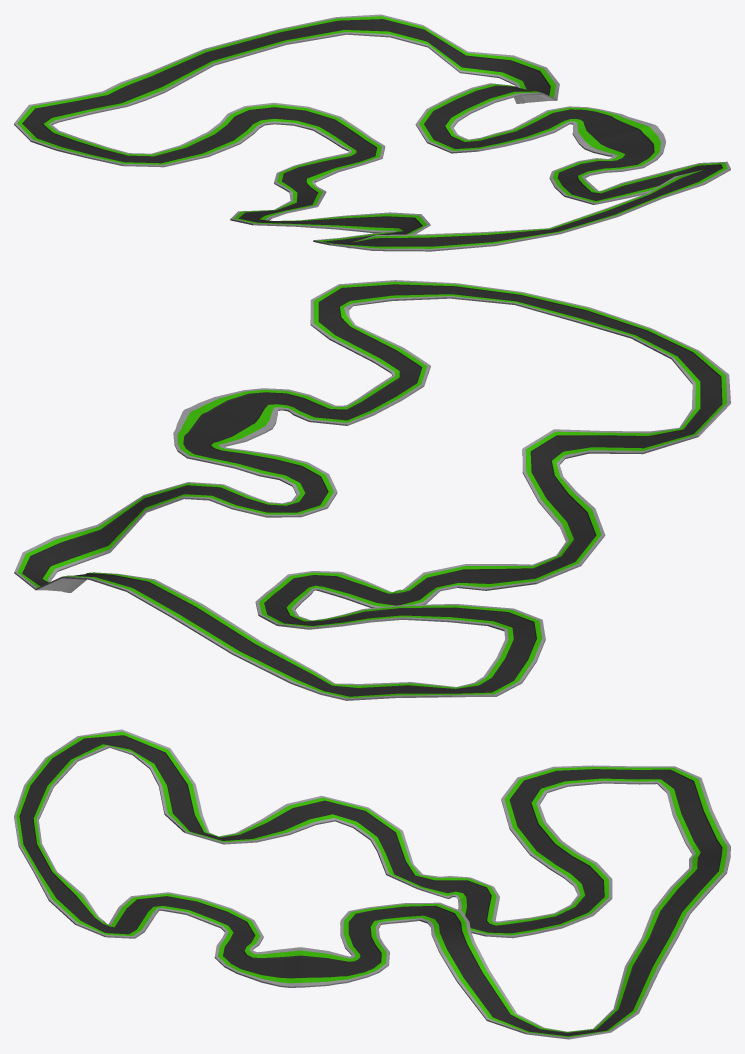
Rendered from NormalsAndUVTest.fbx.
The picture shows the model from 3 angles, top to bottom: view 1: azimuth 30°, elevation 25°; view 2: azimuth 150°, elevation 25°; view 3: azimuth 270°, elevation 25°; orthographic projection. The views are drawn at different scales.
Parts seen in each view (by area): view 1: StraightShort:pCube1; view 2: StraightShort:pCube1; view 3: StraightShort:pCube1.
Boxes of the visible parts, <box> form: StraightShort:pCube1: <box>14,14,730,251</box>; StraightShort:pCube1: <box>14,280,730,700</box>; StraightShort:pCube1: <box>14,729,730,1039</box>.
Bounding box in the file's own units: 526 × 106 × 643.
